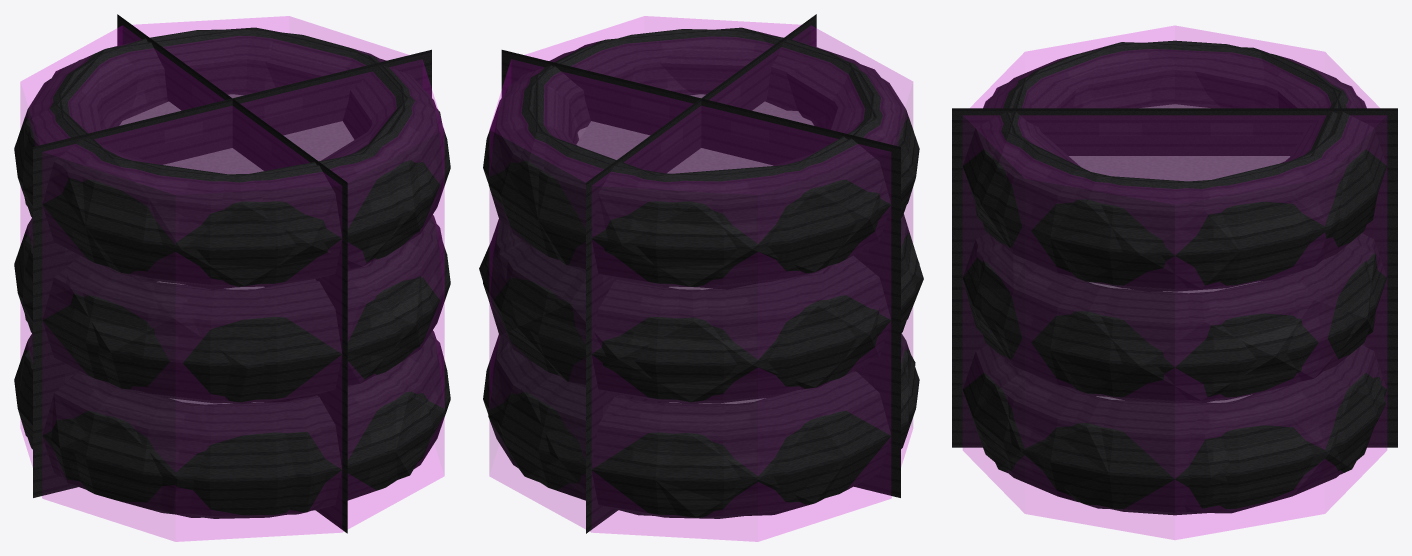
Rendered from tire_stack_3.dae.
3 views of the same model, side by side, from view 1: azimuth 30°, elevation 25°; view 2: azimuth 150°, elevation 25°; view 3: azimuth 270°, elevation 25° (orthographic). The views are drawn at different scales.
Parts seen in each view (by area): view 1: tire_stack_3_a800, Colmesh_stack-1, tire_stack_3_a200, tire_stack_3_a50; view 2: tire_stack_3_a800, Colmesh_stack-1, tire_stack_3_a200, tire_stack_3_a50; view 3: tire_stack_3_a800, Colmesh_stack-1, tire_stack_3_a200, tire_stack_3_a50.
Part boxes in pixels (left/top/right/bottom): tire_stack_3_a800: left=14, top=29, right=450, bottom=518; Colmesh_stack-1: left=20, top=16, right=444, bottom=541; tire_stack_3_a200: left=18, top=27, right=450, bottom=517; tire_stack_3_a50: left=33, top=14, right=431, bottom=533; tire_stack_3_a800: left=483, top=29, right=919, bottom=518; Colmesh_stack-1: left=489, top=16, right=912, bottom=541; tire_stack_3_a200: left=479, top=27, right=923, bottom=517; tire_stack_3_a50: left=501, top=14, right=900, bottom=533; tire_stack_3_a800: left=962, top=40, right=1387, bottom=515; Colmesh_stack-1: left=963, top=26, right=1386, bottom=539; tire_stack_3_a200: left=963, top=42, right=1385, bottom=513; tire_stack_3_a50: left=952, top=108, right=1397, bottom=447.
Bounding box in the file's own units: 0.798 × 0.798 × 0.6762.
3 materials, 2 textured.
